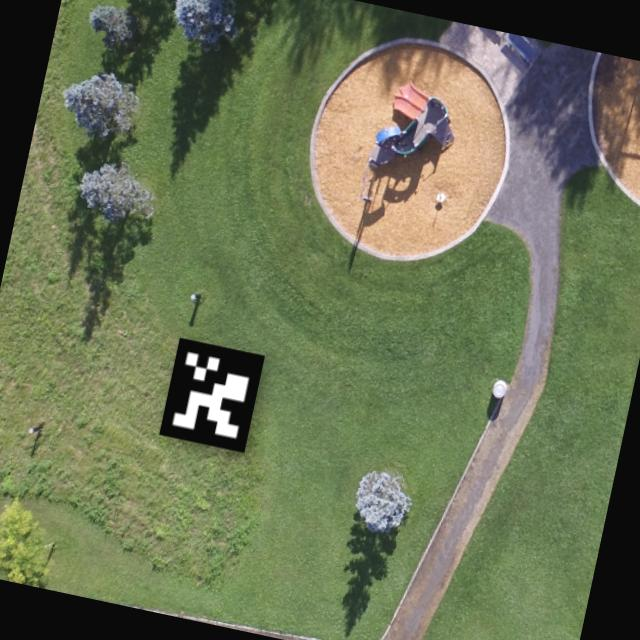marker: (150, 325, 281, 467)
